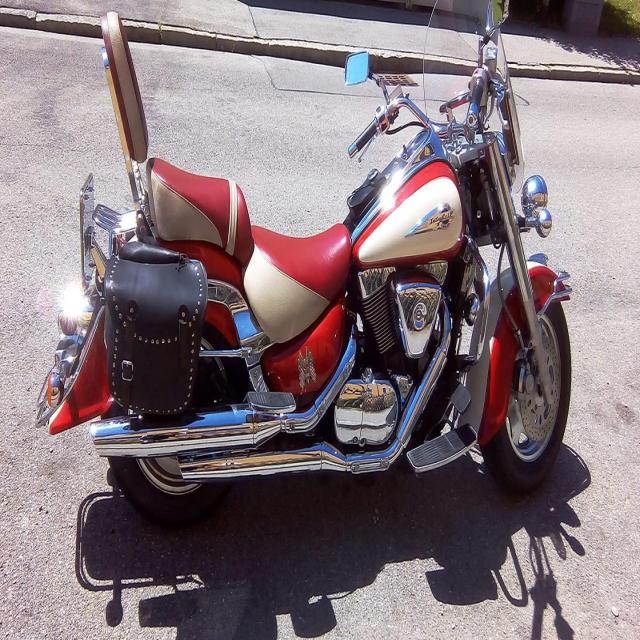Motorcycle: (36, 0, 572, 526)
